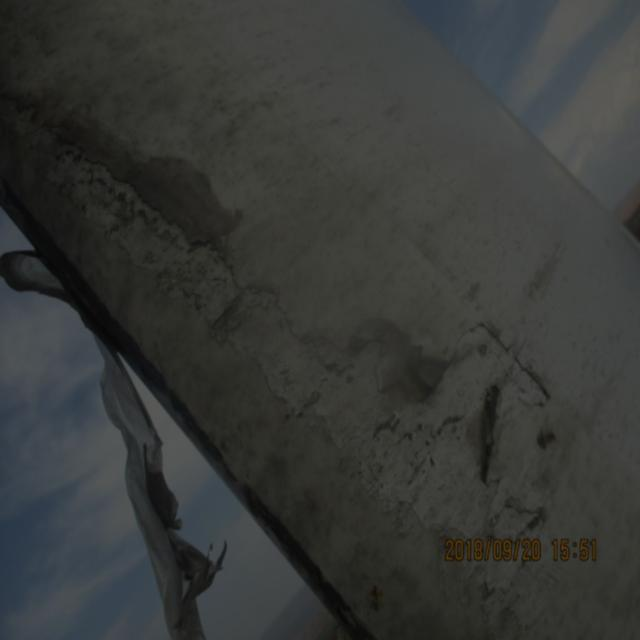corrosion: (334, 347, 548, 540), (189, 247, 321, 406), (21, 122, 174, 257)
